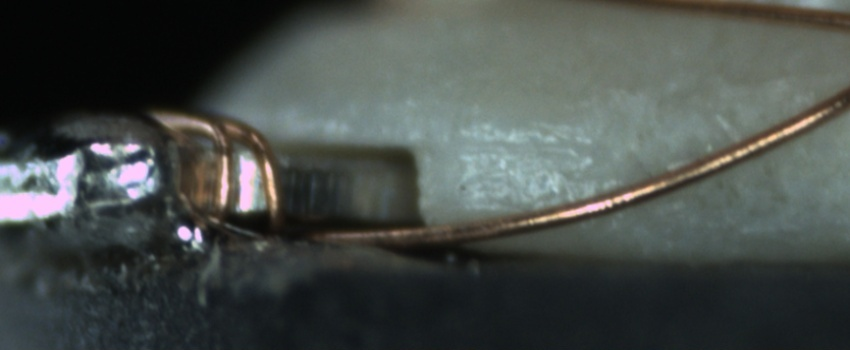DL: (455, 120, 587, 173)
TE: (147, 103, 287, 240)
